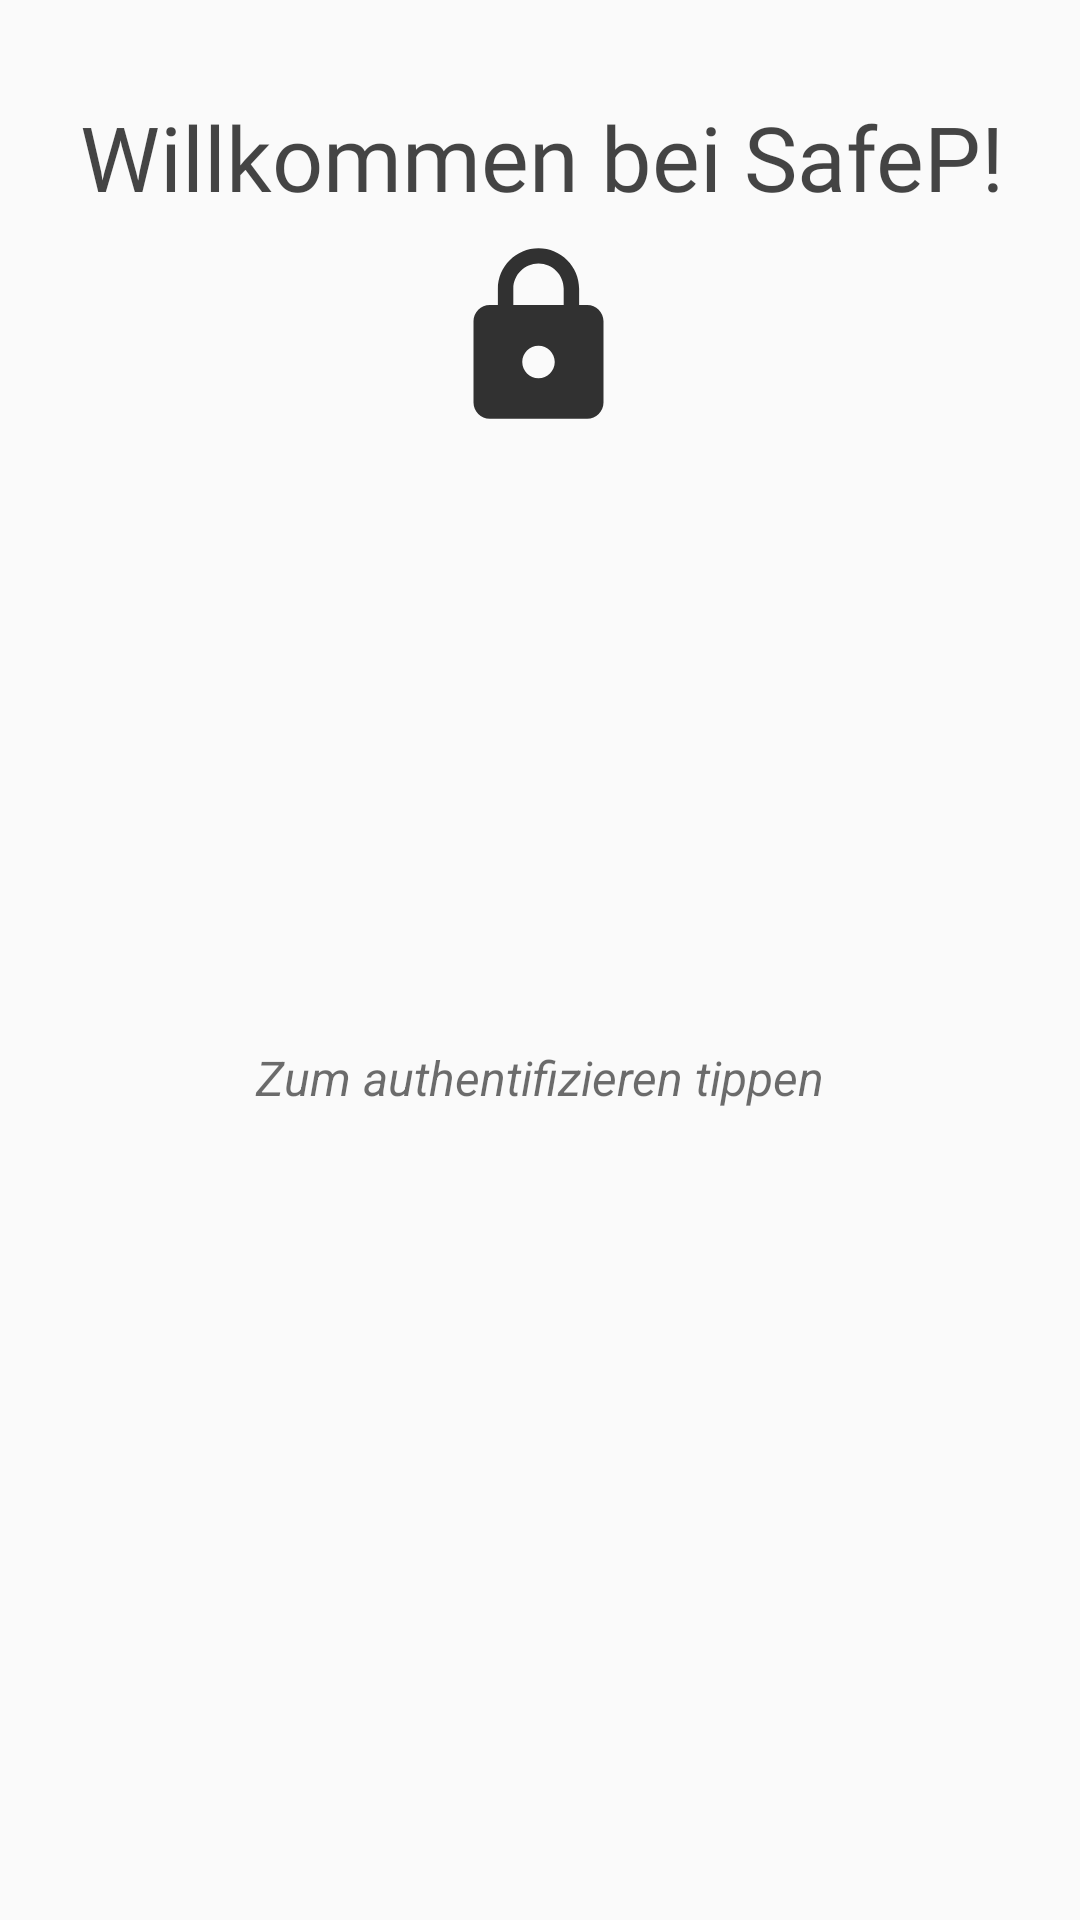

Named icons in this screenshot (1080×1920) and their bounding boxes, (x1, y1, x2, y2):
lock: (473, 248, 604, 419)
